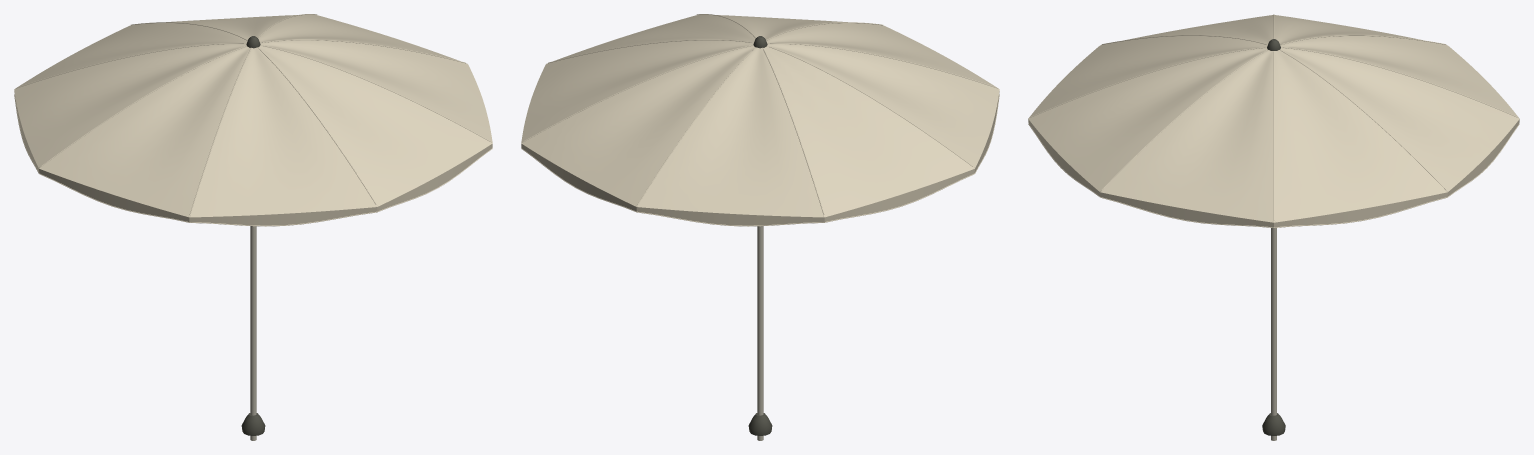
The model's file is BeachParasol.glb.
3 renders of one model, left to right at view 1: azimuth 30°, elevation 25°; view 2: azimuth 150°, elevation 25°; view 3: azimuth 270°, elevation 25°, orthographic.
Visible parts, largest first — view 1: BeachParasol_Canopy, BeachParasol_Frame, BeachParasol_Hardware; view 2: BeachParasol_Canopy, BeachParasol_Frame, BeachParasol_Hardware; view 3: BeachParasol_Canopy, BeachParasol_Frame, BeachParasol_Hardware.
Boxes of the visible parts, x1,y1,x2,y2 form: BeachParasol_Canopy: [14, 14, 492, 226]; BeachParasol_Frame: [250, 226, 256, 440]; BeachParasol_Hardware: [241, 36, 265, 435]; BeachParasol_Canopy: [521, 14, 999, 226]; BeachParasol_Frame: [757, 226, 763, 440]; BeachParasol_Hardware: [748, 36, 772, 435]; BeachParasol_Canopy: [1028, 14, 1519, 227]; BeachParasol_Frame: [1271, 228, 1276, 440]; BeachParasol_Hardware: [1262, 39, 1285, 435].
Size of the model in its own units: 3 by 2.69 by 3.
